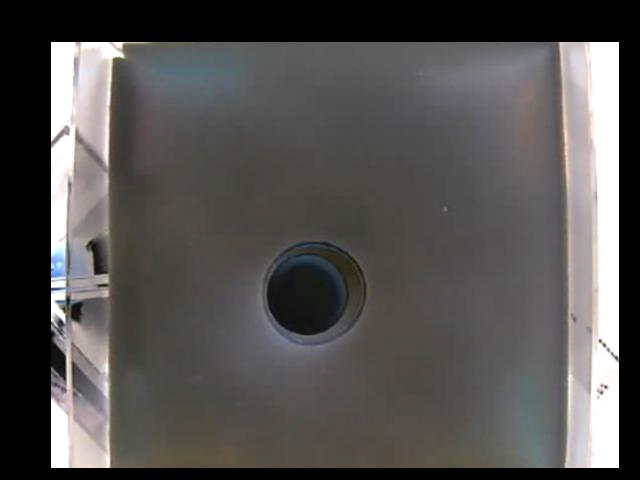Cup: (259, 237, 368, 347)
